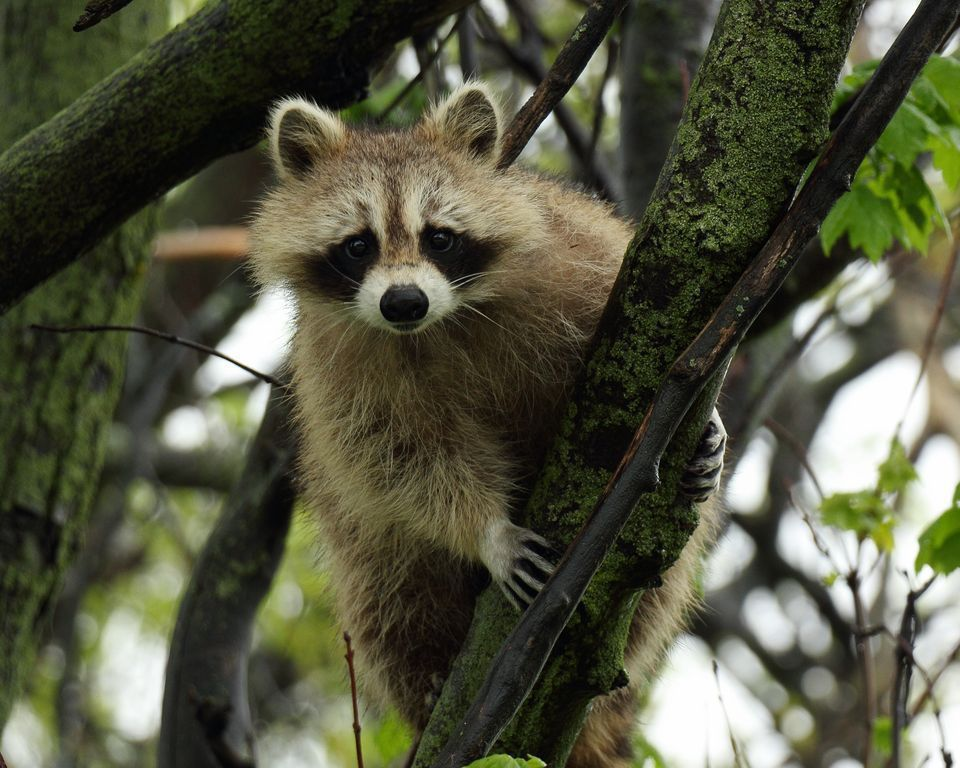raccoon: (253, 77, 799, 730)
